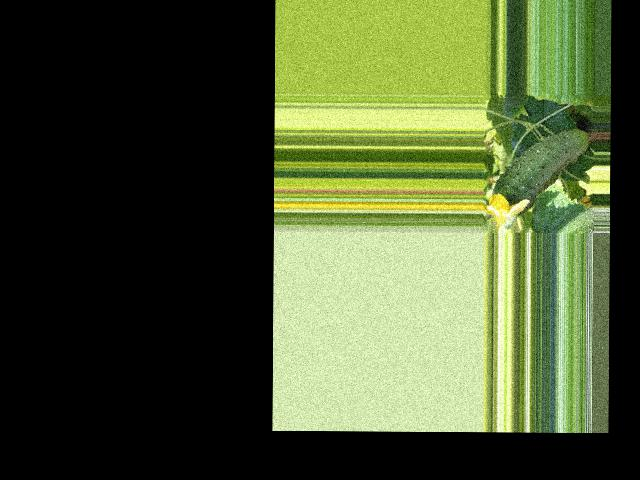cucumber: (492, 127, 595, 215)
